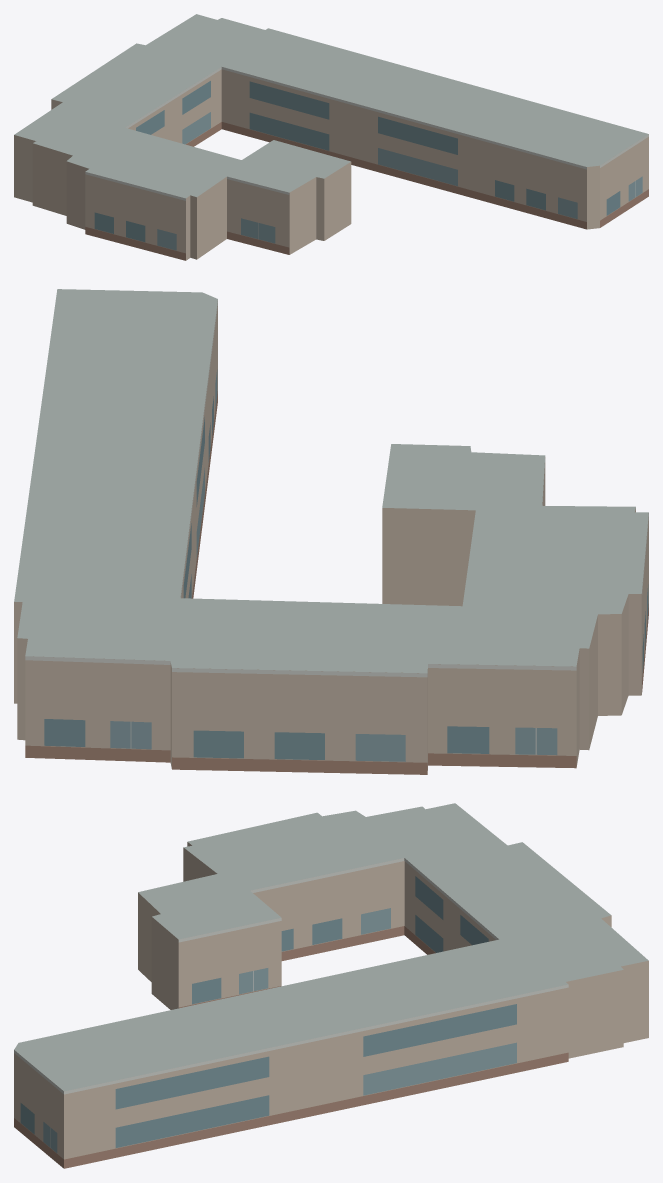
Rendered from survey-upis-32529540.glb.
3 renders of one model, top to bottom at view 1: azimuth 30°, elevation 25°; view 2: azimuth 150°, elevation 25°; view 3: azimuth 270°, elevation 25°, orthographic. The views are drawn at different scales.
Visible parts, largest first — view 1: survey-upis-32529540.tmp; view 2: survey-upis-32529540.tmp; view 3: survey-upis-32529540.tmp.
Part boxes in pixels (x1,y1,x2,y2): survey-upis-32529540.tmp: (14, 14, 648, 260); survey-upis-32529540.tmp: (14, 289, 648, 774); survey-upis-32529540.tmp: (14, 803, 648, 1168).
Size of the model in its own units: 48.78 by 6.1 by 45.39.
